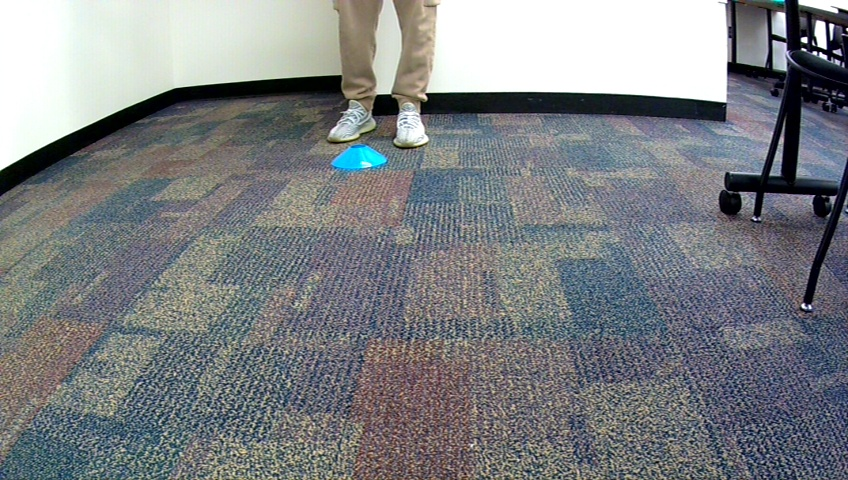cone: (332, 143, 390, 168)
